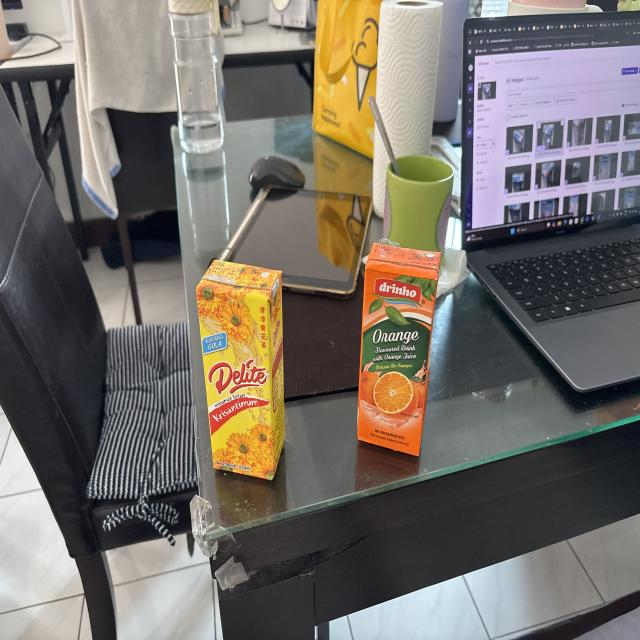drink_carton: (189, 251, 292, 487), (352, 234, 447, 465)
